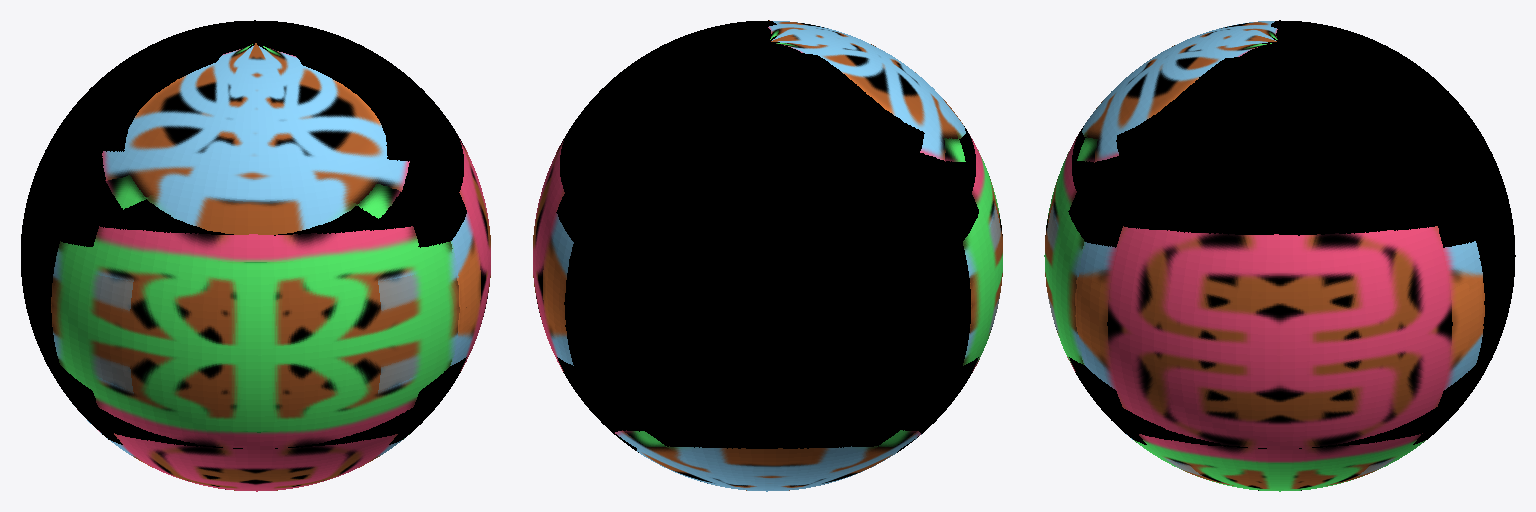
3 renders of one model, left to right at view 1: azimuth 30°, elevation 25°; view 2: azimuth 150°, elevation 25°; view 3: azimuth 270°, elevation 25°, orthographic.
Visible parts, largest first — view 1: Sphere; view 2: Sphere; view 3: Sphere.
Part boxes in pixels (left/top/right/bottom): Sphere: left=21, top=20, right=490, bottom=491; Sphere: left=533, top=20, right=1002, bottom=491; Sphere: left=1044, top=20, right=1515, bottom=491.
Size of the model in its own units: 2 by 2 by 2.
Materials: 1 (1 with a texture image).